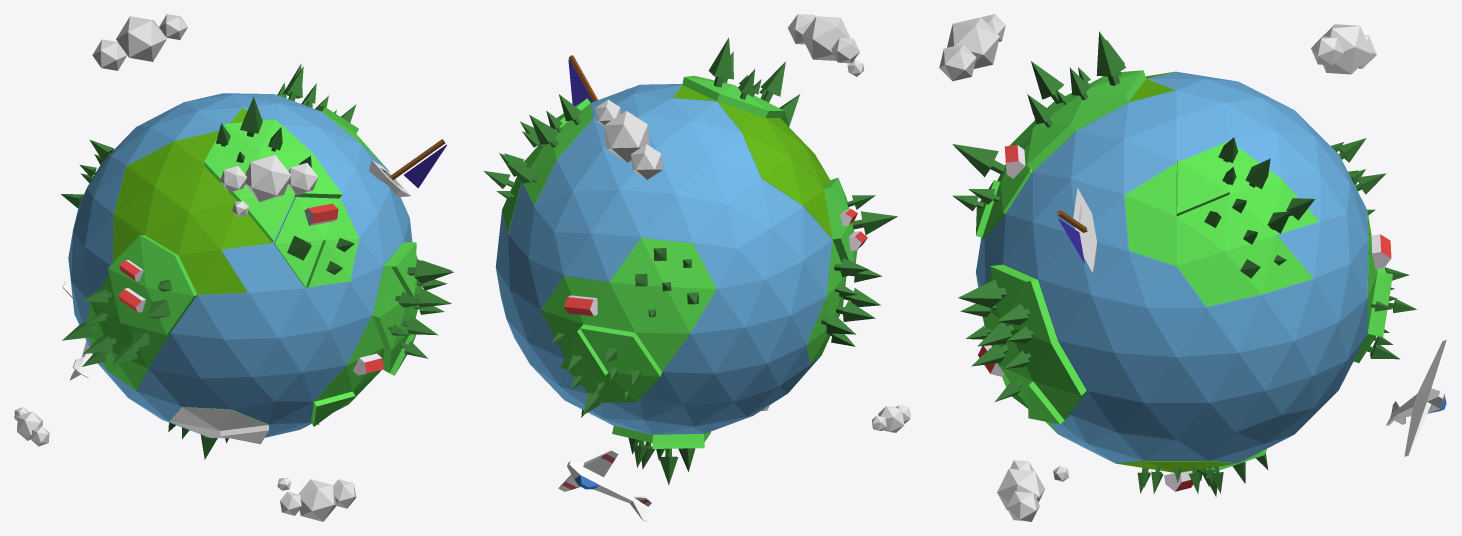
File: earth_4.gltf
3 renders of one model, left to right at view 1: azimuth 30°, elevation 25°; view 2: azimuth 150°, elevation 25°; view 3: azimuth 270°, elevation 25°, orthographic. The views are drawn at different scales.
Parts seen in each view (by area): view 1: Agua.001, Tierra, Icosphere.002, Icosphere.003, Icosphere.004, Barco.001, Icosphere.015, Plane.058, Plane.056, Avión, Plane.087; view 2: Agua.001, Tierra, Icosphere.002, Icosphere.003, Avión, Icosphere.015, Barco.001, Plane.087, Plane.053, Plane.127, Plane.145; view 3: Agua.001, Tierra, Icosphere.003, Icosphere.002, Avión, Icosphere.004, Barco.001, Plane.087, Plane.121, Plane.058, Plane.145, Plane.053.
Part boxes in pixels (bbox=[...]): Agua.001: bbox=[68, 93, 412, 437]; Tierra: bbox=[86, 94, 421, 444]; Icosphere.002: bbox=[92, 14, 187, 70]; Icosphere.003: bbox=[220, 155, 318, 202]; Icosphere.004: bbox=[280, 479, 356, 521]; Barco.001: bbox=[369, 139, 446, 197]; Icosphere.015: bbox=[14, 407, 49, 446]; Plane.058: bbox=[407, 259, 454, 283]; Plane.056: bbox=[304, 203, 338, 225]; Avión: bbox=[62, 281, 93, 380]; Plane.087: bbox=[240, 97, 262, 136]; Agua.001: bbox=[495, 84, 832, 434]; Tierra: bbox=[502, 75, 857, 448]; Icosphere.002: bbox=[595, 99, 662, 179]; Icosphere.003: bbox=[788, 14, 859, 63]; Avión: bbox=[558, 450, 652, 521]; Icosphere.015: bbox=[872, 405, 910, 432]; Barco.001: bbox=[568, 55, 627, 105]; Plane.087: bbox=[708, 37, 732, 87]; Plane.053: bbox=[564, 295, 597, 315]; Plane.127: bbox=[852, 211, 897, 234]; Plane.145: bbox=[760, 61, 785, 102]; Agua.001: bbox=[975, 71, 1368, 463]; Tierra: bbox=[976, 70, 1392, 473]; Icosphere.003: bbox=[939, 14, 1005, 81]; Icosphere.002: bbox=[1311, 24, 1376, 74]; Avión: bbox=[1386, 339, 1447, 456]; Icosphere.004: bbox=[997, 460, 1044, 521]; Barco.001: bbox=[1057, 188, 1096, 272]; Plane.087: bbox=[1096, 31, 1125, 85]; Plane.121: bbox=[952, 144, 1005, 177]; Plane.058: bbox=[958, 279, 1006, 308]; Plane.145: bbox=[1031, 61, 1064, 103]; Plane.053: bbox=[1371, 234, 1391, 269].
Bounding box in the file's own units: 2.59 × 2.65 × 2.61.
